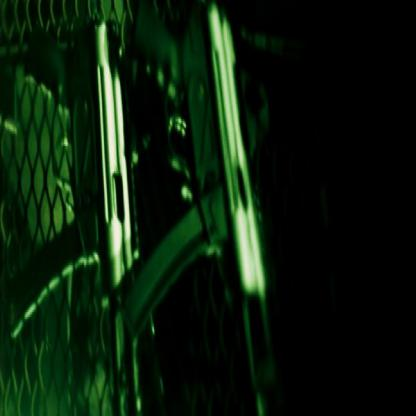Gun: (5, 0, 285, 415)
